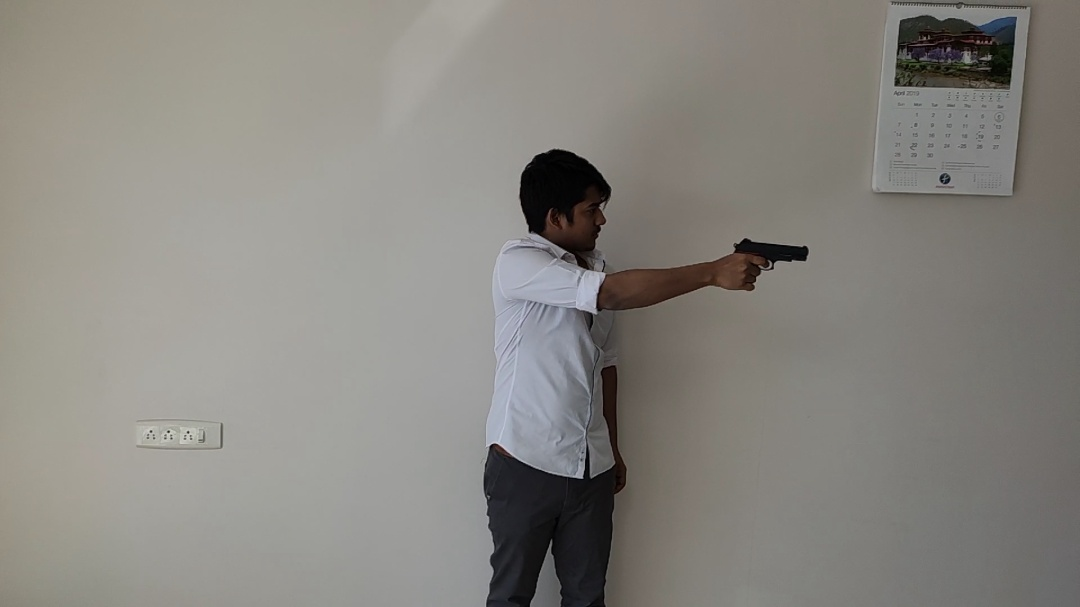gun: (732, 238, 810, 270)
